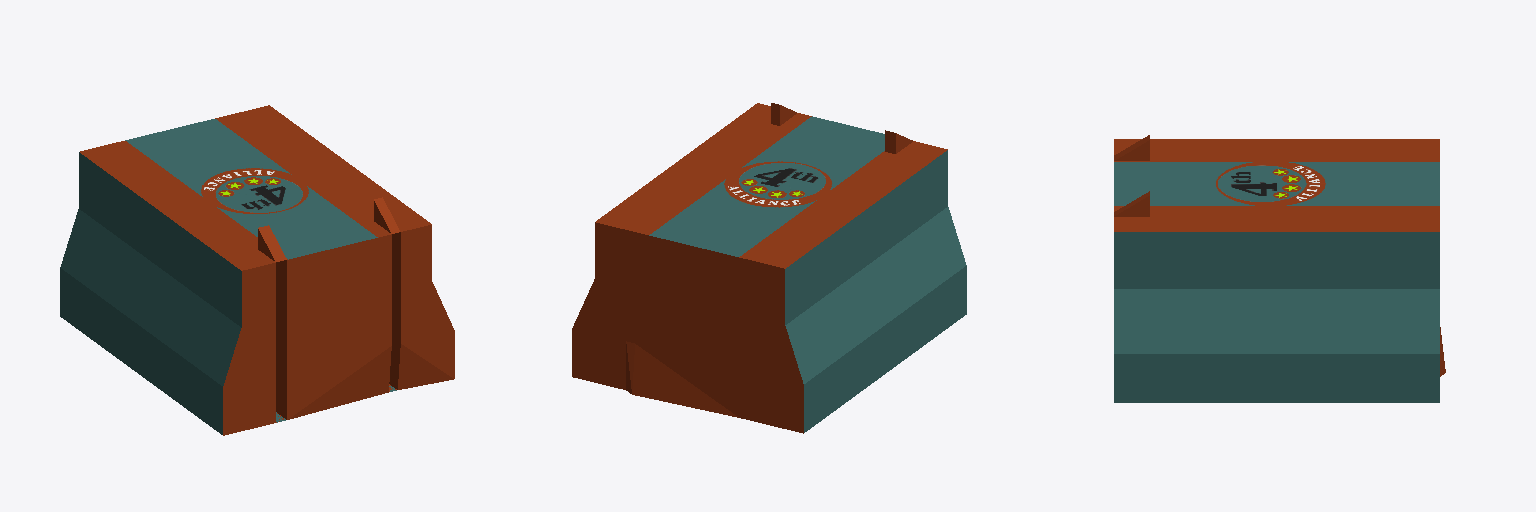
The picture shows the model from 3 angles: view 1: azimuth 30°, elevation 25°; view 2: azimuth 150°, elevation 25°; view 3: azimuth 270°, elevation 25°; orthographic projection.
Visible parts, largest first — view 1: Turret:polySurface3 Turret:polySurface13 Turret:polySurface14 Tu; view 2: Turret:polySurface3 Turret:polySurface13 Turret:polySurface14 Tu; view 3: Turret:polySurface3 Turret:polySurface13 Turret:polySurface14 Tu.
Boxes of the visible parts, x1,y1,x2,y2 form: Turret:polySurface3 Turret:polySurface13 Turret:polySurface14 Tu: [60, 105, 454, 435]; Turret:polySurface3 Turret:polySurface13 Turret:polySurface14 Tu: [572, 103, 966, 433]; Turret:polySurface3 Turret:polySurface13 Turret:polySurface14 Tu: [1114, 135, 1445, 402].
Size of the model in its own units: 2.77 by 2.08 by 3.44.
Materials: 1 (1 with a texture image).